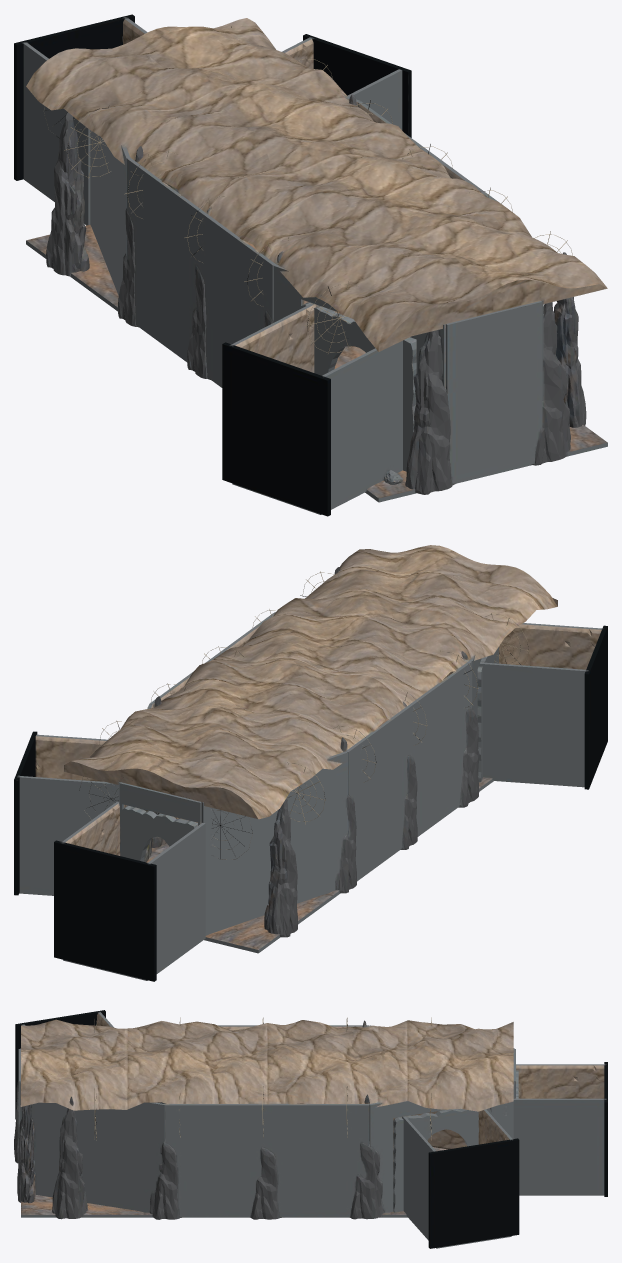
Rendered from room.glb.
3 views of the same model, one above another, from view 1: azimuth 30°, elevation 25°; view 2: azimuth 150°, elevation 25°; view 3: azimuth 270°, elevation 25° (orthographic). The views are drawn at different scales.
Visible parts, largest first — view 1: COBWEBBY-CORRIDOR; view 2: COBWEBBY-CORRIDOR; view 3: COBWEBBY-CORRIDOR.
Part boxes in pixels (box(x1,y1,x2,y2)): COBWEBBY-CORRIDOR: box(14, 14, 607, 516); COBWEBBY-CORRIDOR: box(14, 545, 607, 981); COBWEBBY-CORRIDOR: box(14, 1010, 607, 1248).
Bounding box in the file's own units: 11.06 × 4.79 × 19.29.
Materials: 1 (1 with a texture image).
